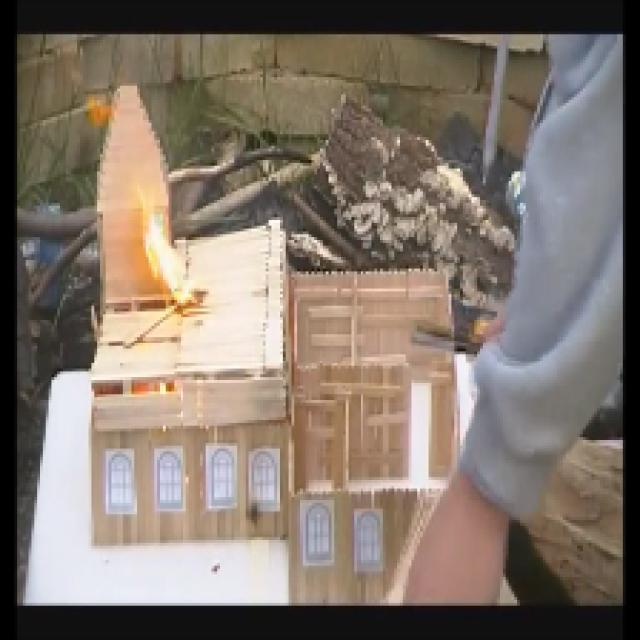Fire: (136, 200, 198, 312)
